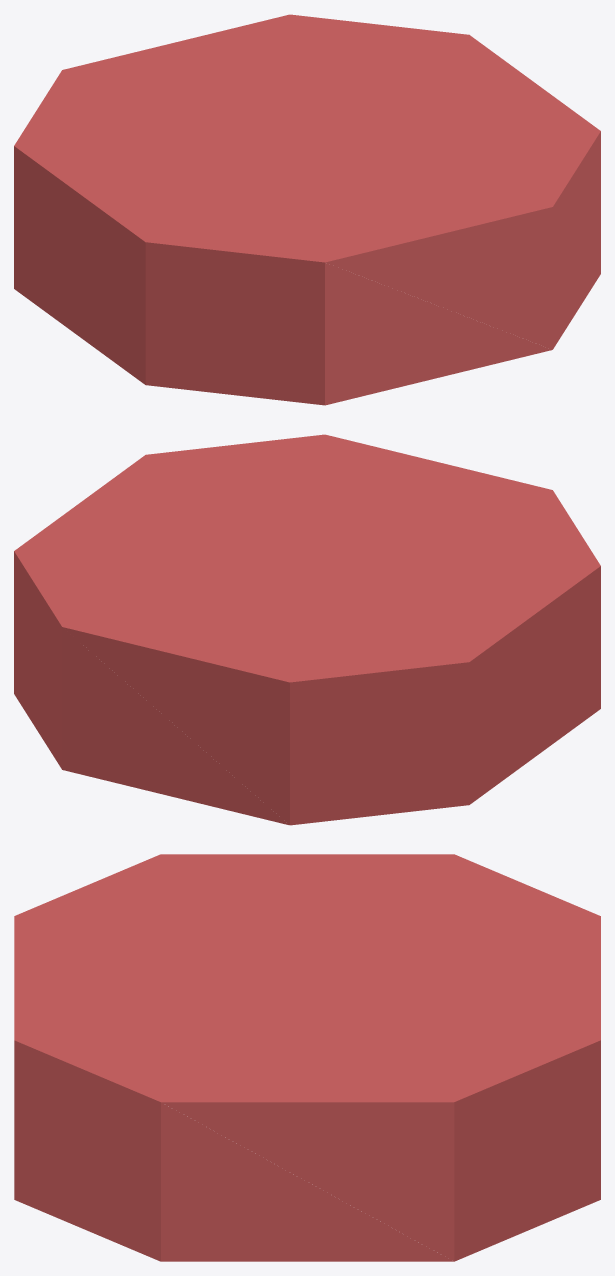
File: fl_amilift.glb
3 views of the same model, one above another, from view 1: azimuth 30°, elevation 25°; view 2: azimuth 150°, elevation 25°; view 3: azimuth 270°, elevation 25° (orthographic). The views are drawn at different scales.
Visible parts, largest first — view 1: fl_amilift_col; view 2: fl_amilift_col; view 3: fl_amilift_col.
Boxes of the visible parts, box(x1,y1,x2,y2) form: fl_amilift_col: box(14, 14, 600, 405); fl_amilift_col: box(14, 434, 600, 825); fl_amilift_col: box(14, 854, 600, 1261).
Bounding box in the file's own units: 5 × 1.5 × 5.
